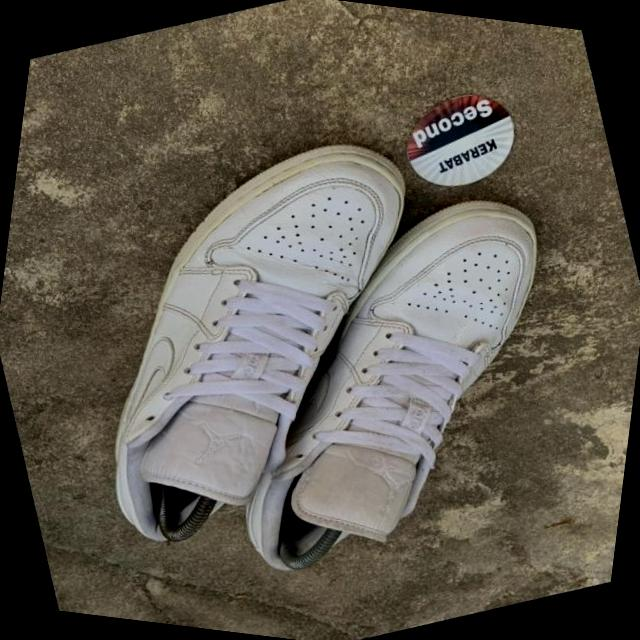nike_original_airforce: (3, 89, 514, 599), (142, 148, 638, 622)
